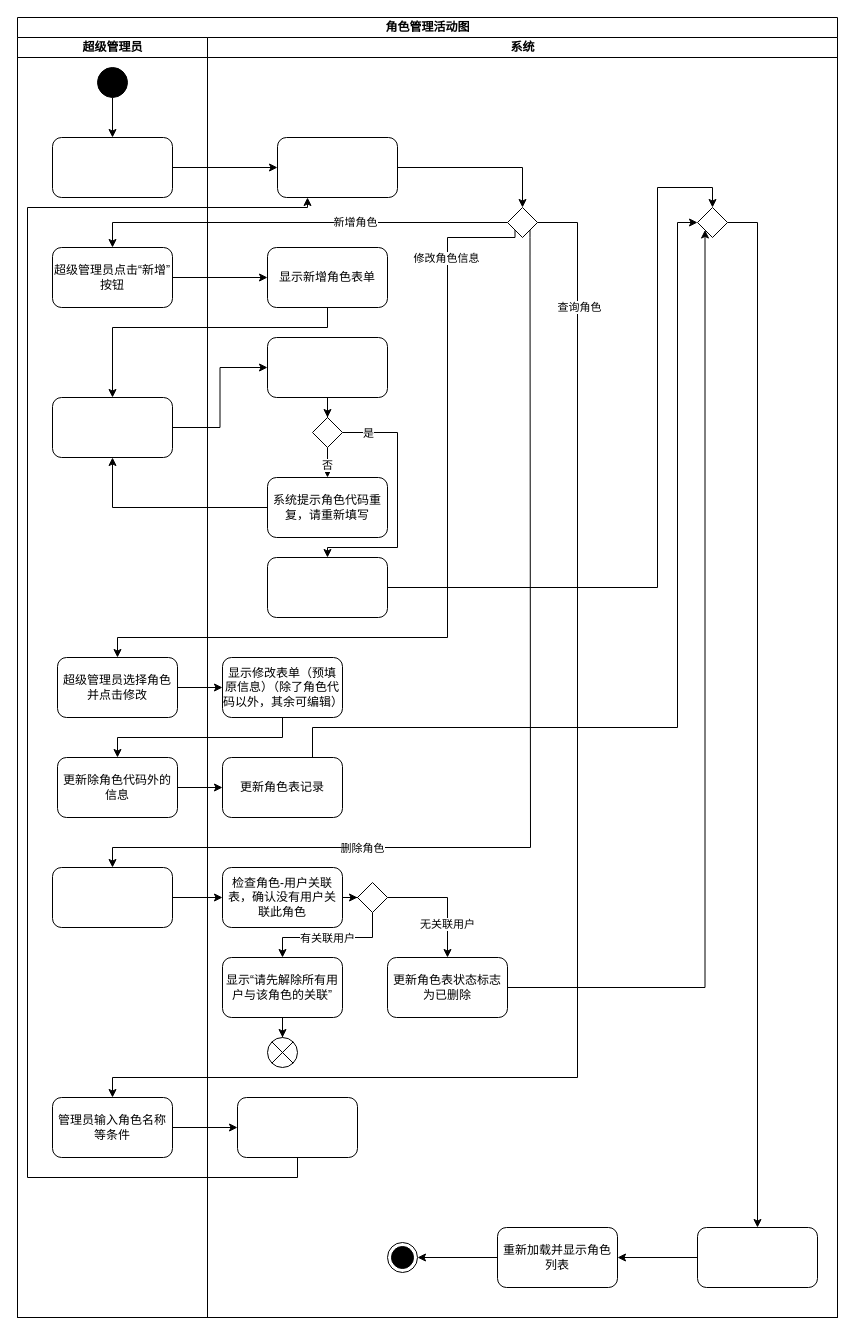
Image size: 855x1335. Some labels were removed from this diagram. The shapes that lost their labels are listed below. From the top down, each one's centre as x and y in pixels, then its label:
At (112,167): "从主菜单导航至角色管理界面".
At (337,167): "显示角色列表".
At (327,367): "系统校验角色代码唯一性".
At (112,427): "超级管理员填写角色名称、角色代码、描述".
At (327,587): "将角色记录插入角色表".
At (112,897): "超级管理员选择一条角色，点击删除".
At (297,1127): "查询角色表并刷新列表显示".
At (757,1257): "系统记录操作日志".
